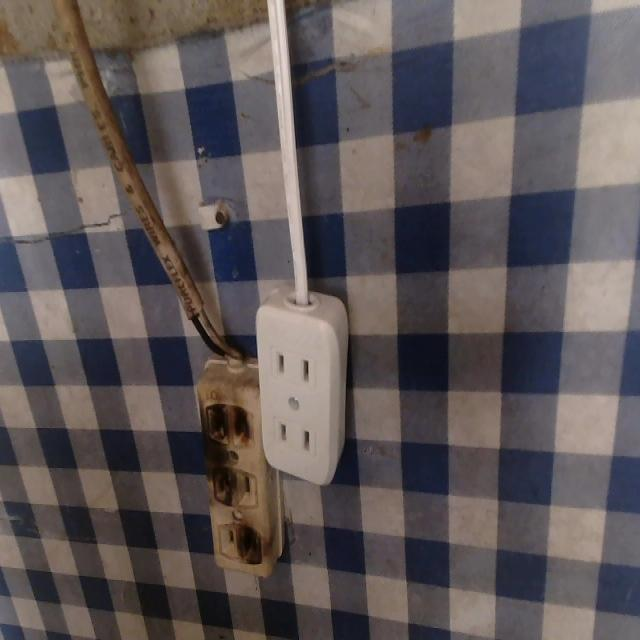-: (195, 399, 259, 449), (236, 519, 271, 576), (204, 459, 238, 509)
